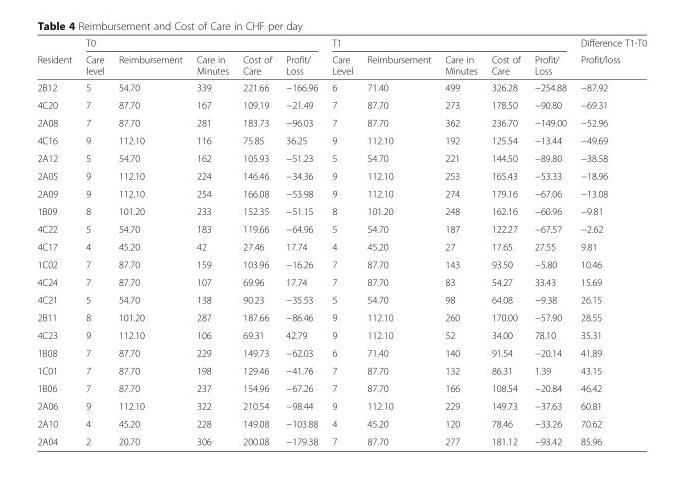table: (36, 36, 646, 446)
table column: (110, 36, 188, 446), (359, 36, 437, 446), (572, 36, 646, 446), (188, 36, 235, 446), (278, 36, 324, 446), (437, 36, 483, 446), (526, 36, 572, 446), (235, 36, 278, 446), (483, 36, 526, 446), (36, 36, 78, 446), (324, 36, 359, 446), (78, 36, 110, 446)
table column header: (36, 36, 646, 78)
table row: (36, 50, 646, 78), (36, 95, 646, 113), (36, 113, 646, 131), (36, 148, 646, 166), (36, 166, 646, 184), (36, 201, 646, 219), (36, 219, 646, 237), (36, 237, 646, 255), (36, 272, 646, 290), (36, 290, 646, 308), (36, 308, 646, 326), (36, 343, 646, 361), (36, 378, 646, 396), (36, 396, 646, 414), (36, 414, 646, 432), (36, 78, 646, 95), (36, 131, 646, 148), (36, 184, 646, 201), (36, 255, 646, 272), (36, 326, 646, 343), (36, 361, 646, 378), (36, 36, 646, 50), (36, 432, 646, 446)
table spanning cell: (324, 36, 572, 50), (78, 36, 324, 50), (572, 36, 646, 78), (36, 36, 78, 78)
